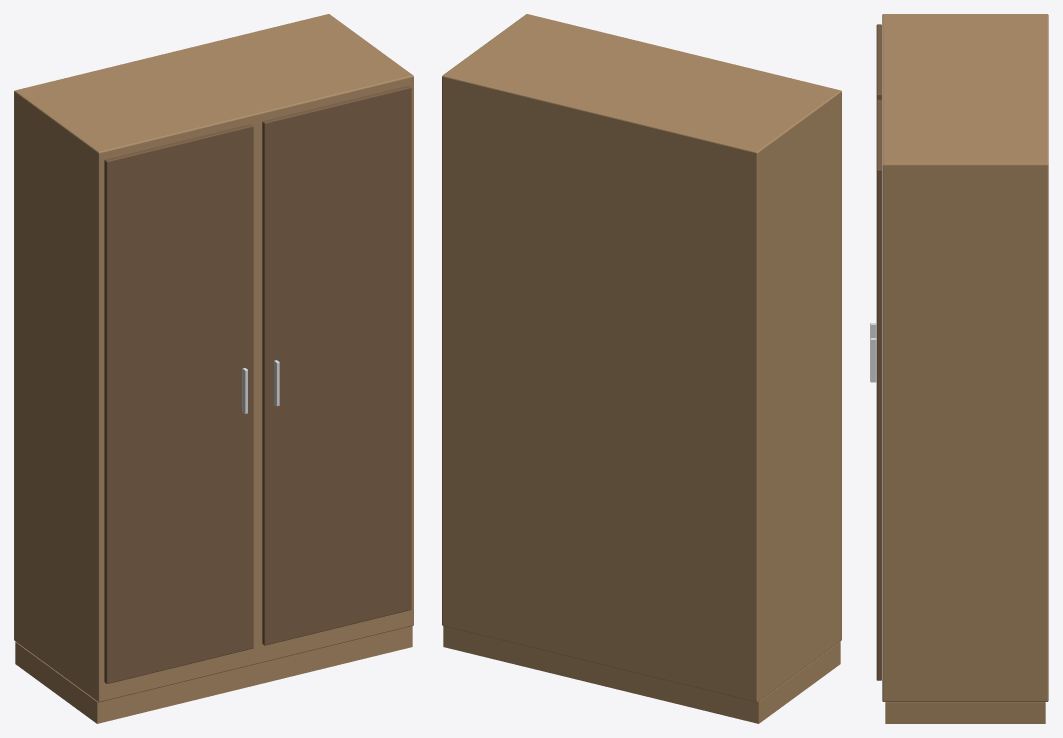
File: furniture-wardrobe.glb
3 views of the same model, side by side, from view 1: azimuth 30°, elevation 25°; view 2: azimuth 150°, elevation 25°; view 3: azimuth 270°, elevation 25° (orthographic). The views are drawn at different scales.
Visible parts, largest first — view 1: Carcass.001, DoorL.001, DoorR.001, Plinth.001; view 2: Carcass.001, Plinth.001; view 3: Carcass.001, Plinth.001, DoorR.001, DoorL.001, PullR.001.
Boxes of the visible parts, bbox=[...] form: Carcass.001: bbox=[14, 14, 413, 702]; DoorL.001: bbox=[104, 124, 253, 683]; DoorR.001: bbox=[262, 85, 411, 645]; Plinth.001: bbox=[15, 626, 412, 723]; Carcass.001: bbox=[442, 14, 841, 702]; Plinth.001: bbox=[443, 626, 840, 723]; Carcass.001: bbox=[882, 14, 1048, 701]; Plinth.001: bbox=[885, 702, 1045, 723]; DoorR.001: bbox=[876, 99, 881, 680]; DoorL.001: bbox=[876, 24, 881, 99]; PullR.001: bbox=[870, 338, 876, 382].
Size of the model in its own units: 1.2 by 2.08 by 0.6.
